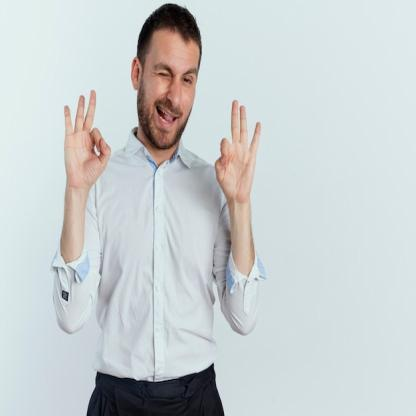ok: (211, 96, 264, 206), (61, 86, 113, 192)
